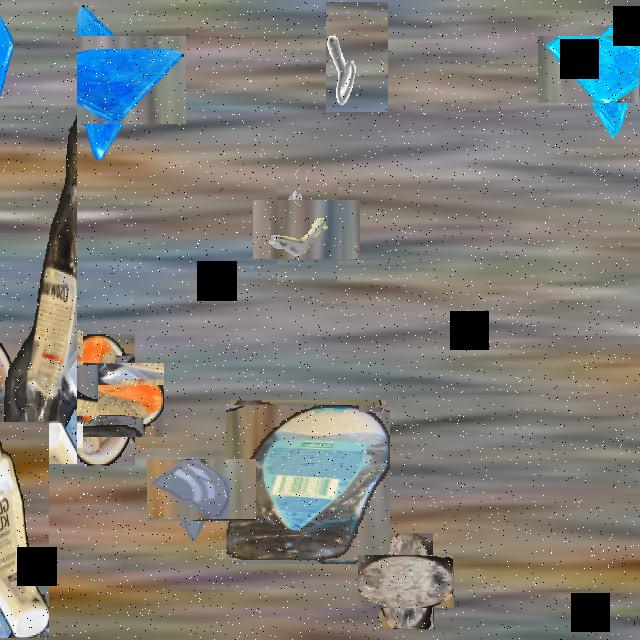glass: (47, 19, 169, 141), (555, 18, 640, 120), (17, 331, 83, 448), (158, 448, 244, 534), (0, 341, 74, 440)
metal: (265, 188, 349, 271), (326, 2, 388, 112)
plastic: (0, 2, 77, 464), (228, 402, 388, 562), (46, 349, 150, 451), (0, 422, 49, 638)
wood: (368, 544, 444, 619)
